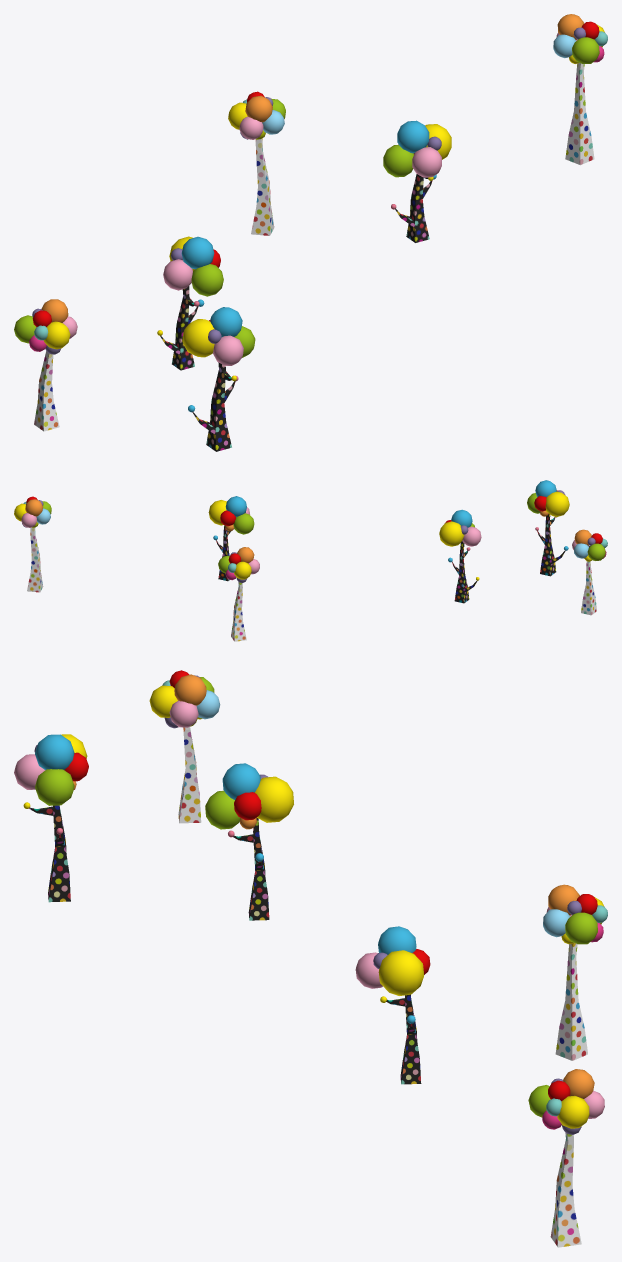
File: SM_Bosque_Arboles_Redondos.fbx
3 views of the same model, one above another, from view 1: azimuth 30°, elevation 25°; view 2: azimuth 150°, elevation 25°; view 3: azimuth 270°, elevation 25° (orthographic). The views are drawn at different scales.
Parts seen in each view (by area): view 1: ARBOLES_REDONDOS_COPAS, arbol_lowpoly_2_2_006, arbol_lowpoly_9_3, arbol_lowpoly_2_2_005, arbol_lowpoly_2_2_2, arbol_lowpoly_9_009, arbol_lowpoly_9_008; view 2: ARBOLES_REDONDOS_COPAS, arbol_lowpoly_9_3, arbol_lowpoly_2_2_006, arbol_lowpoly_9_008, arbol_lowpoly_2_2_005, arbol_lowpoly_2_2_2, arbol_lowpoly_9_009; view 3: ARBOLES_REDONDOS_COPAS, arbol_lowpoly_2_2_005, arbol_lowpoly_2_2_006, arbol_lowpoly_9_3, arbol_lowpoly_2_2_2, arbol_lowpoly_9_008, arbol_lowpoly_9_009.
Part boxes in pixels (bbox=[...]): ARBOLES_REDONDOS_COPAS: bbox=[14, 14, 607, 412]; arbol_lowpoly_2_2_006: bbox=[565, 63, 594, 165]; arbol_lowpoly_9_3: bbox=[192, 362, 235, 451]; arbol_lowpoly_2_2_005: bbox=[251, 138, 274, 235]; arbol_lowpoly_2_2_2: bbox=[34, 351, 59, 431]; arbol_lowpoly_9_009: bbox=[395, 174, 432, 242]; arbol_lowpoly_9_008: bbox=[160, 286, 198, 370]; ARBOLES_REDONDOS_COPAS: bbox=[14, 480, 607, 582]; arbol_lowpoly_9_3: bbox=[537, 514, 565, 576]; arbol_lowpoly_2_2_006: bbox=[27, 527, 43, 592]; arbol_lowpoly_9_008: bbox=[452, 541, 477, 603]; arbol_lowpoly_2_2_005: bbox=[231, 582, 246, 641]; arbol_lowpoly_2_2_2: bbox=[581, 545, 596, 615]; arbol_lowpoly_9_009: bbox=[216, 525, 231, 581]; ARBOLES_REDONDOS_COPAS: bbox=[14, 670, 607, 1134]; arbol_lowpoly_2_2_005: bbox=[555, 943, 587, 1060]; arbol_lowpoly_2_2_006: bbox=[550, 1132, 581, 1247]; arbol_lowpoly_9_3: bbox=[29, 805, 70, 902]; arbol_lowpoly_2_2_2: bbox=[178, 727, 201, 823]; arbol_lowpoly_9_008: bbox=[233, 818, 269, 920]; arbol_lowpoly_9_009: bbox=[386, 994, 421, 1084].
Bounding box in the file's own units: 4319 × 814 × 2504.
